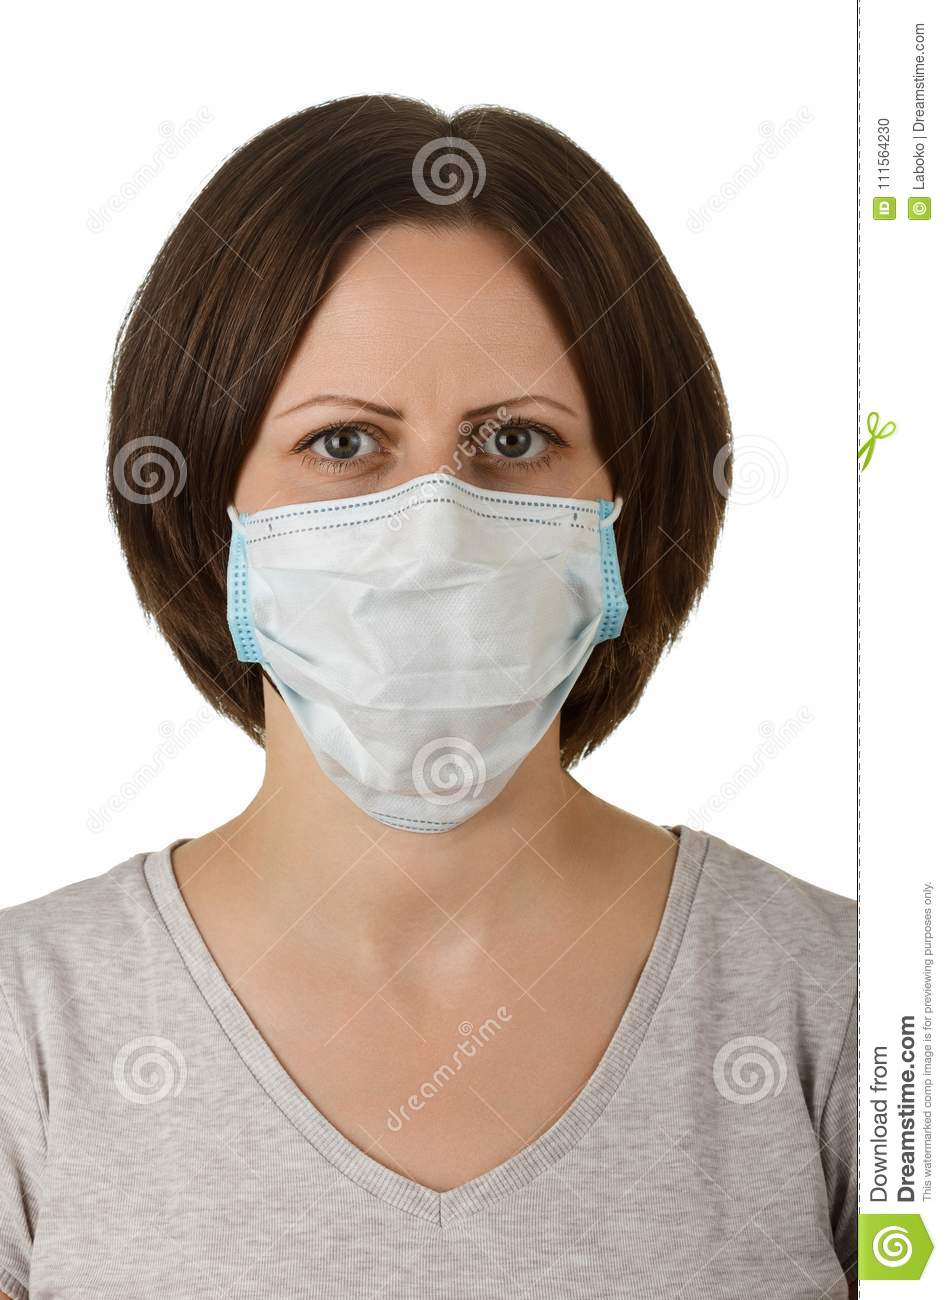mask: (233, 491, 621, 799)
